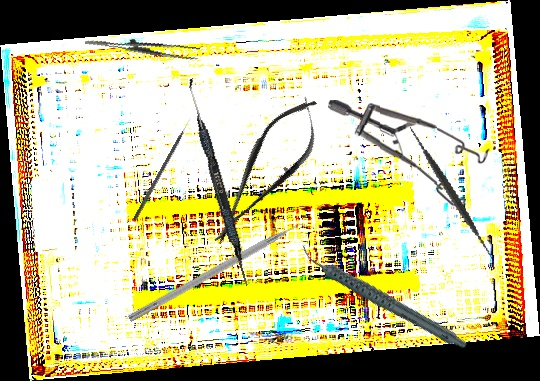Chopper: (127, 215, 317, 332)
Handpiece: (297, 214, 470, 380)
Hook Surgical: (132, 117, 194, 222)
Micro Scissor: (193, 86, 338, 257)
Spatula Surgical: (376, 119, 526, 267), (180, 78, 256, 287)
Speculum: (326, 99, 491, 210)
Tissue Forceps: (84, 21, 201, 71)
